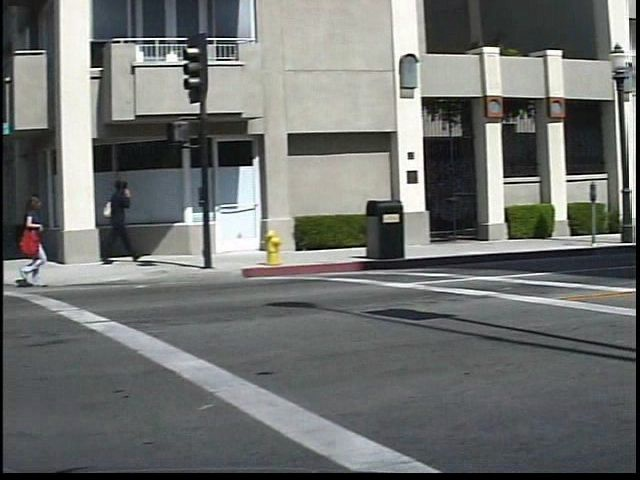person: (14, 185, 64, 298), (109, 174, 156, 264)
